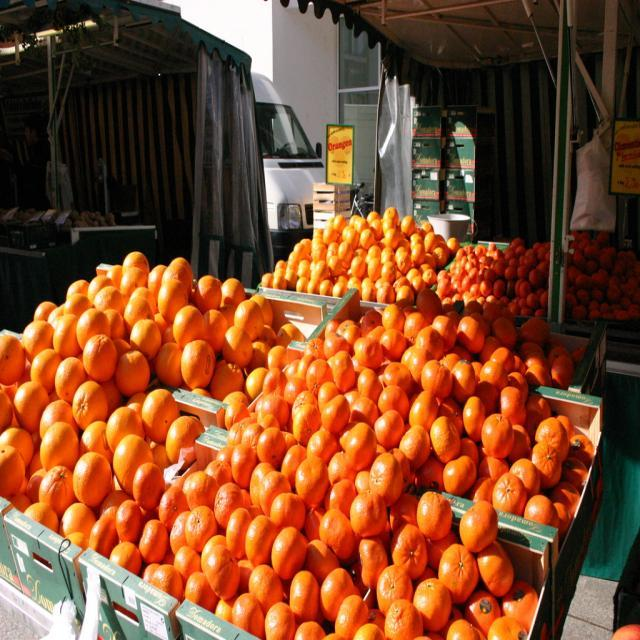Orange: (460, 494, 499, 565)
